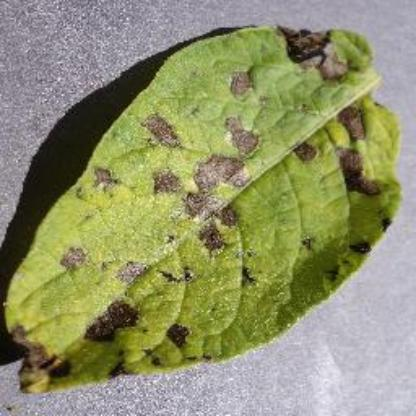Early-Blight: (3, 23, 407, 397)
